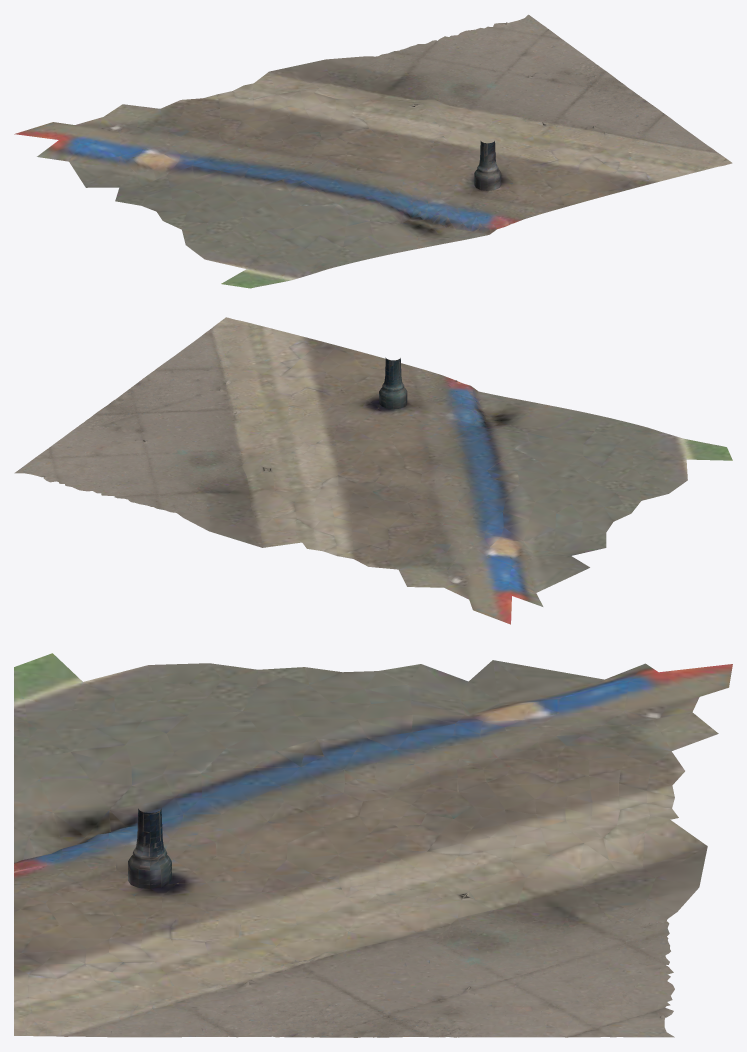
The picture shows the model from 3 angles, top to bottom: view 1: azimuth 30°, elevation 25°; view 2: azimuth 150°, elevation 25°; view 3: azimuth 270°, elevation 25°; orthographic projection. The views are drawn at different scales.
Bounding box in the file's own units: 9.53 × 1.02 × 7.32.
1 material, 1 textured.
